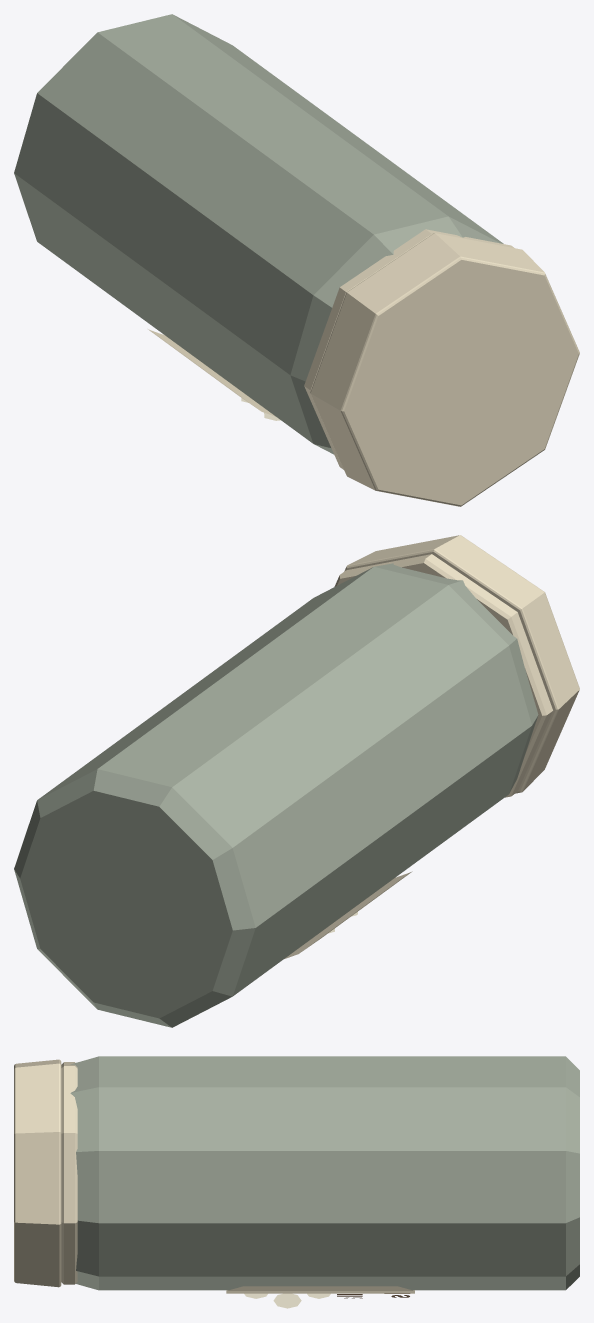
File: vanilla_pods.glb
3 views of the same model, one above another, from view 1: azimuth 30°, elevation 25°; view 2: azimuth 150°, elevation 25°; view 3: azimuth 270°, elevation 25° (orthographic). The views are drawn at different scales.
Parts seen in each view (by area): view 1: vanilla_pods; view 2: vanilla_pods; view 3: vanilla_pods.
Boxes of the visible parts, left/top/right/bottom form: vanilla_pods: left=14, top=14, right=579, bottom=506; vanilla_pods: left=14, top=535, right=579, bottom=1027; vanilla_pods: left=14, top=1056, right=579, bottom=1308.
Size of the model in its own units: 0.0514 by 0.0527 by 0.12.
